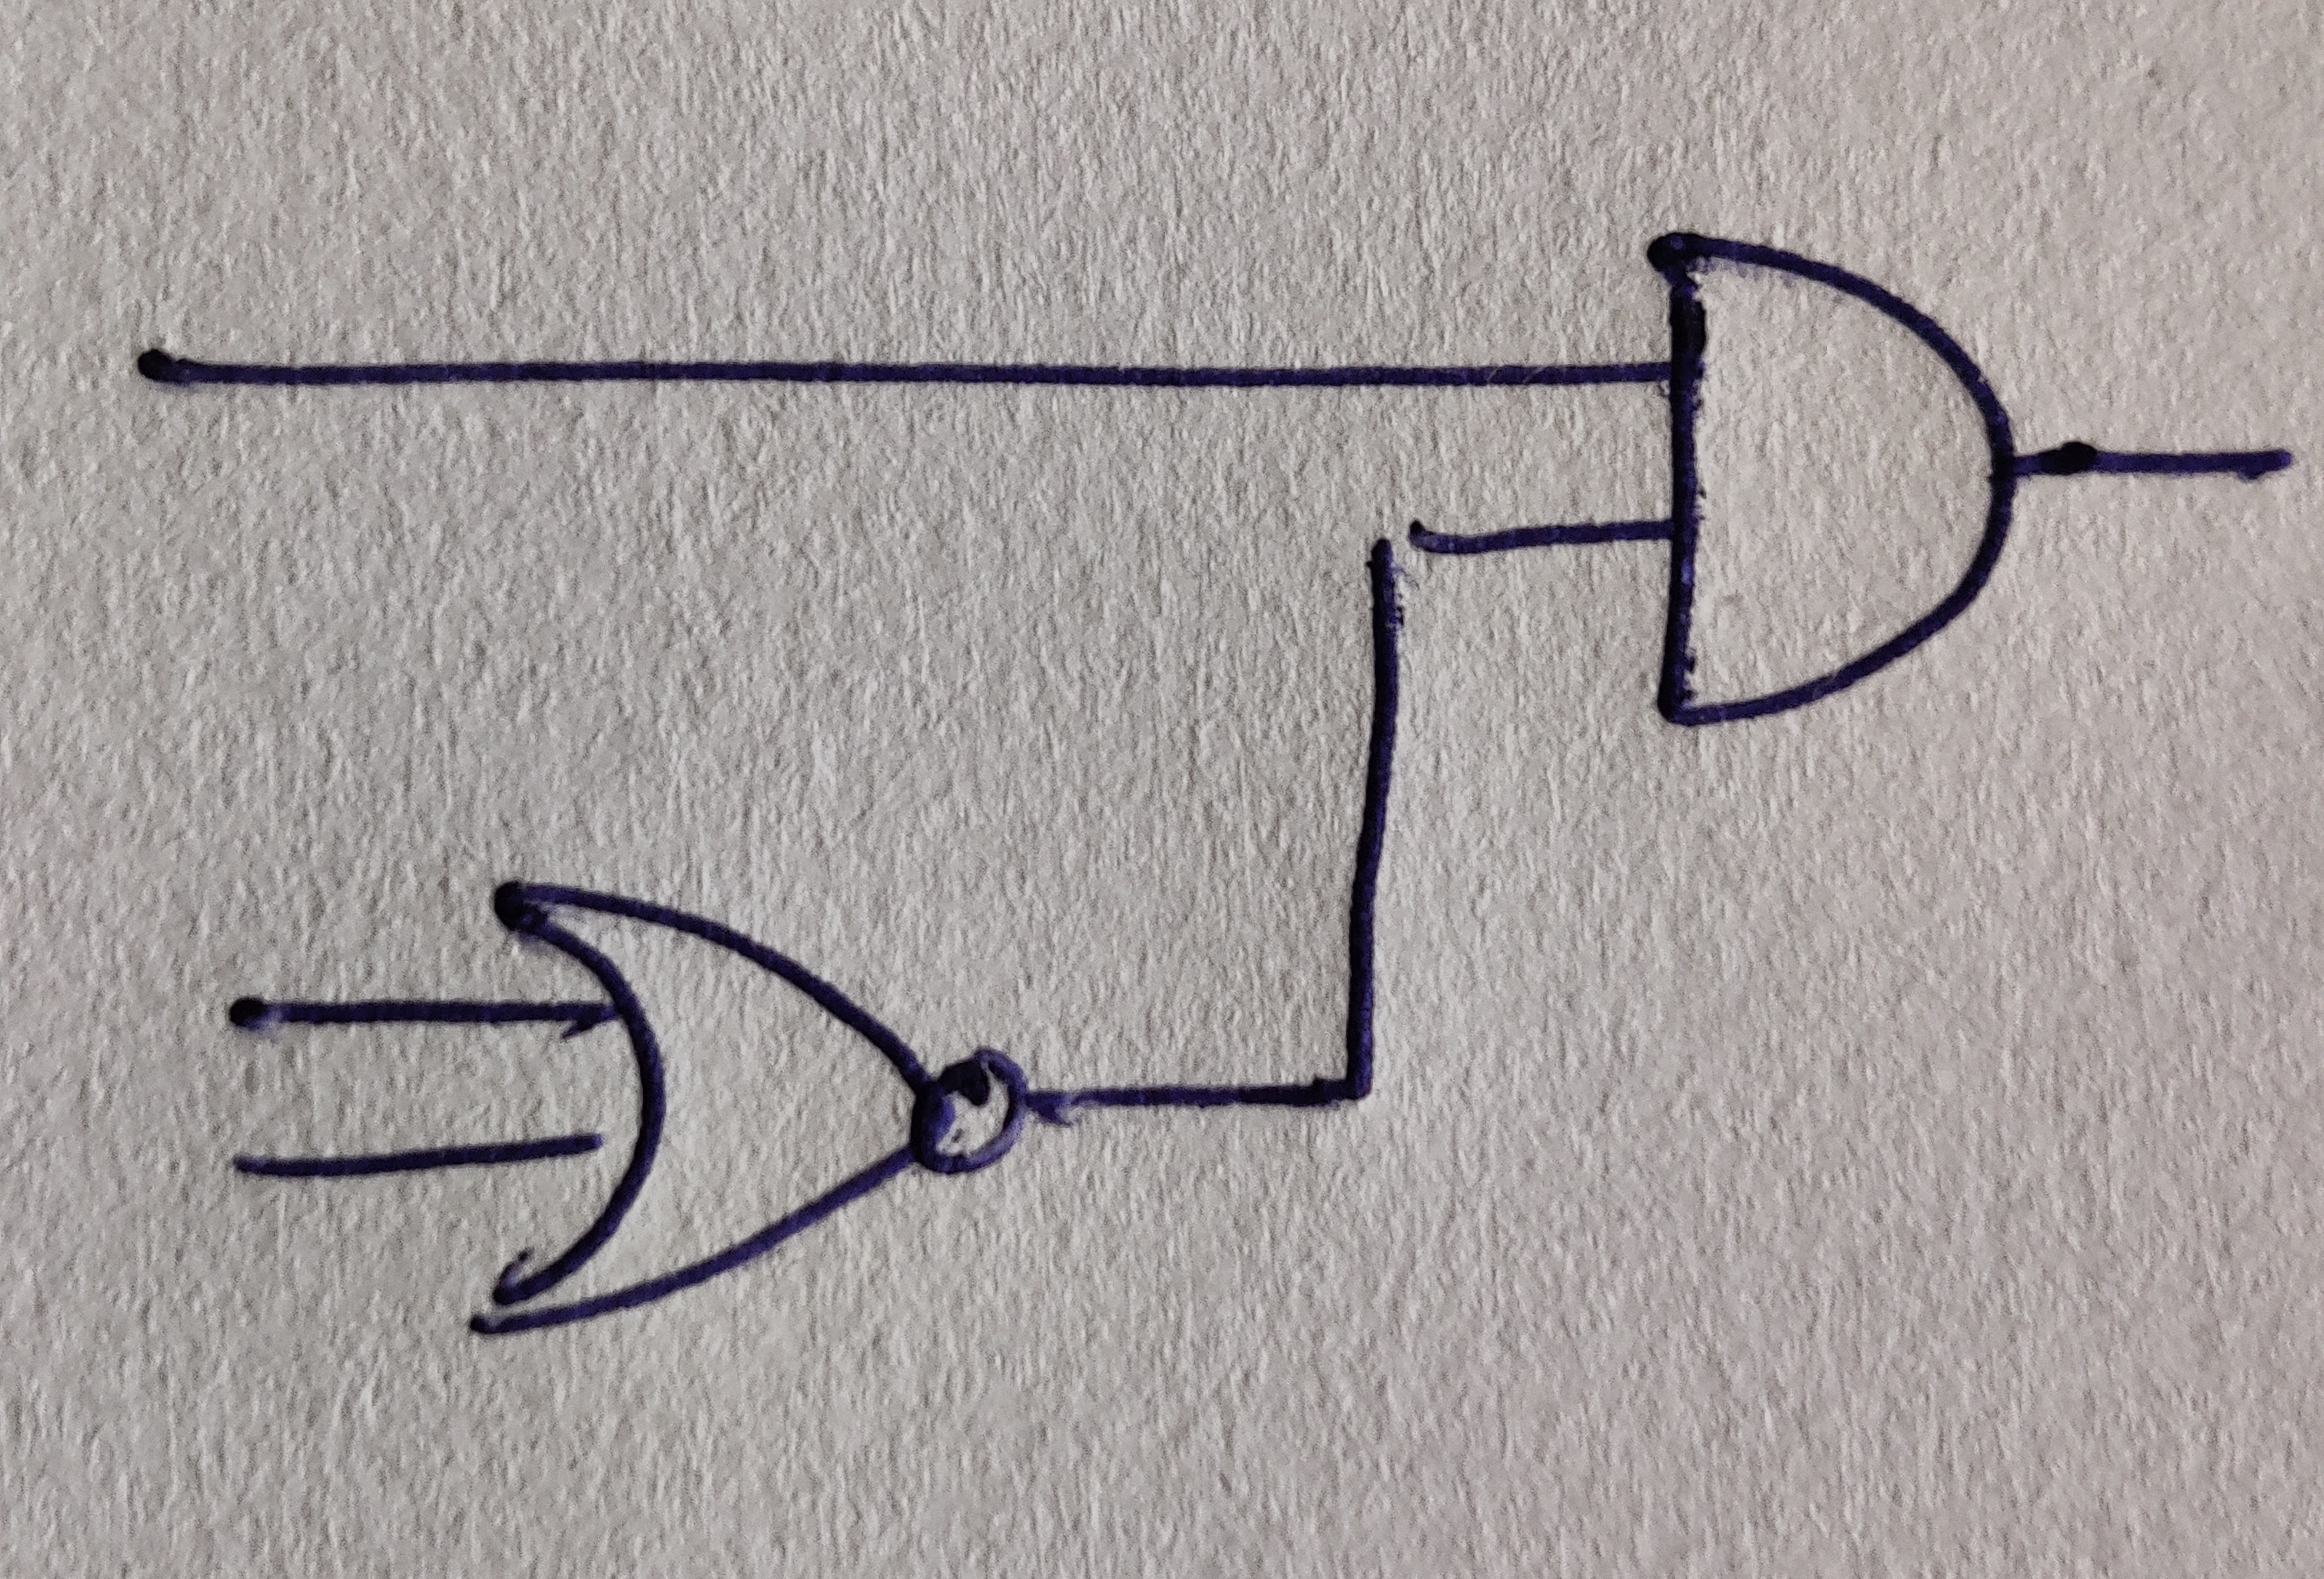and: (1646, 233, 2019, 730)
not: (911, 1049, 1031, 1175)
or: (469, 881, 923, 1341)
